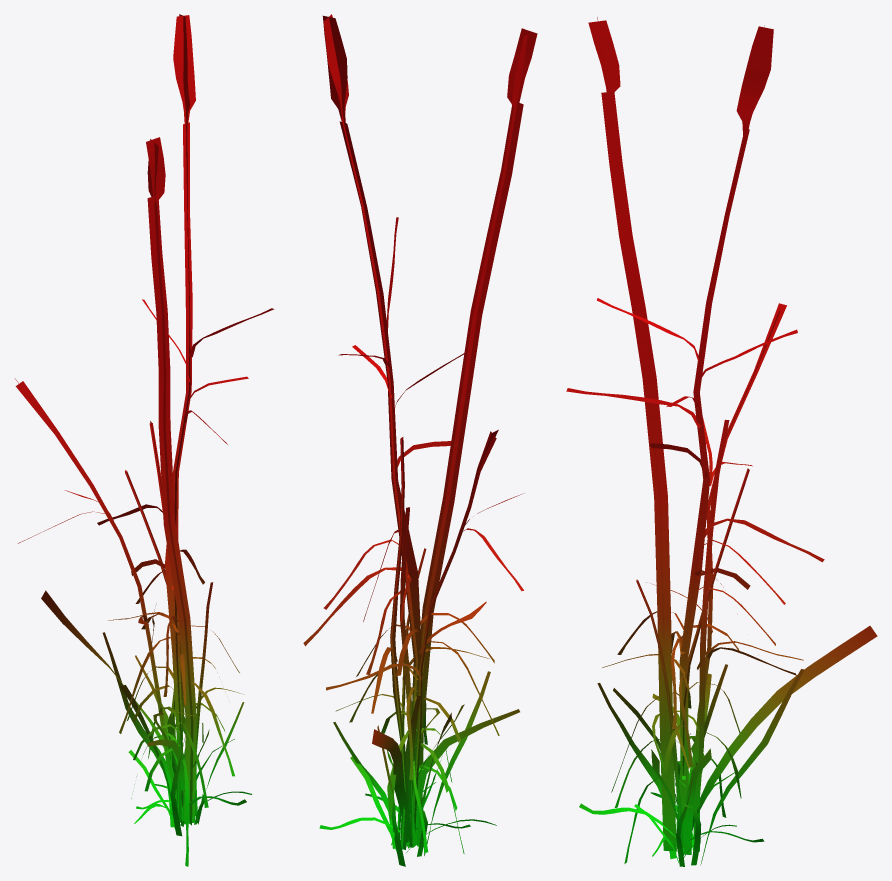
Rendered from Var4_LOD1.fbx.
The picture shows the model from 3 angles, left to right: view 1: azimuth 30°, elevation 25°; view 2: azimuth 150°, elevation 25°; view 3: azimuth 270°, elevation 25°; orthographic projection. The views are drawn at different scales.
Parts seen in each view (by area): view 1: _6da4_Var4_LOD1; view 2: _6da4_Var4_LOD1; view 3: _6da4_Var4_LOD1.
Boxes of the visible parts, x1,y1,x2,y2 form: _6da4_Var4_LOD1: [15, 14, 274, 866]; _6da4_Var4_LOD1: [303, 14, 537, 866]; _6da4_Var4_LOD1: [566, 17, 877, 866].
Size of the model in its own units: 29.41 by 111 by 36.1.
